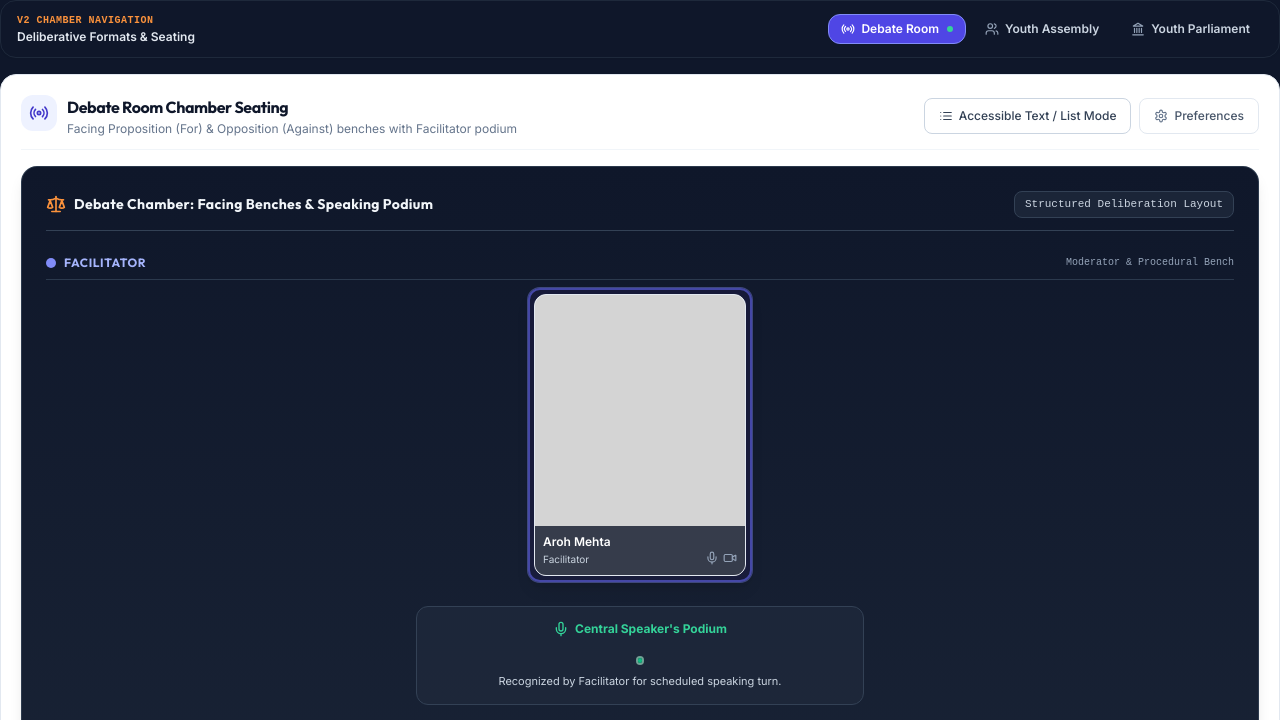
Test: Review Additions #4: Text Mode, Low Data Preference & Session Continuity › 1. Text Mode Control on Debate, Assembly and Parliament Pages › renders a clear text mode control button on SessionSeating
Toggle to Text Mode
Step 1. Click the button with test id "toggle-seating-view-btn" → (1028, 116), box [924,98,1132,134]
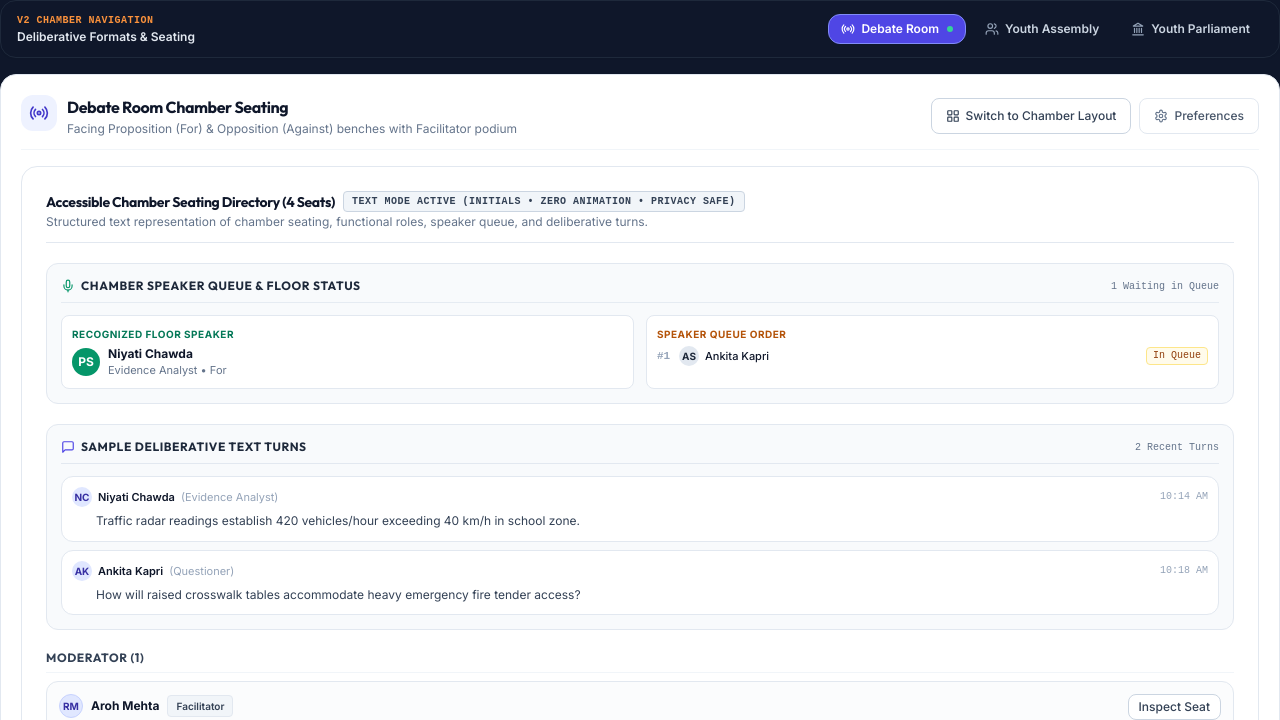
Now the button with test id "toggle-seating-view-btn" reads "Switch to Chamber Layout", box [930,98,1131,134]
Now the text with test id "text-mode-badge" shows "Text Mode Active", box [352,196,736,207]
